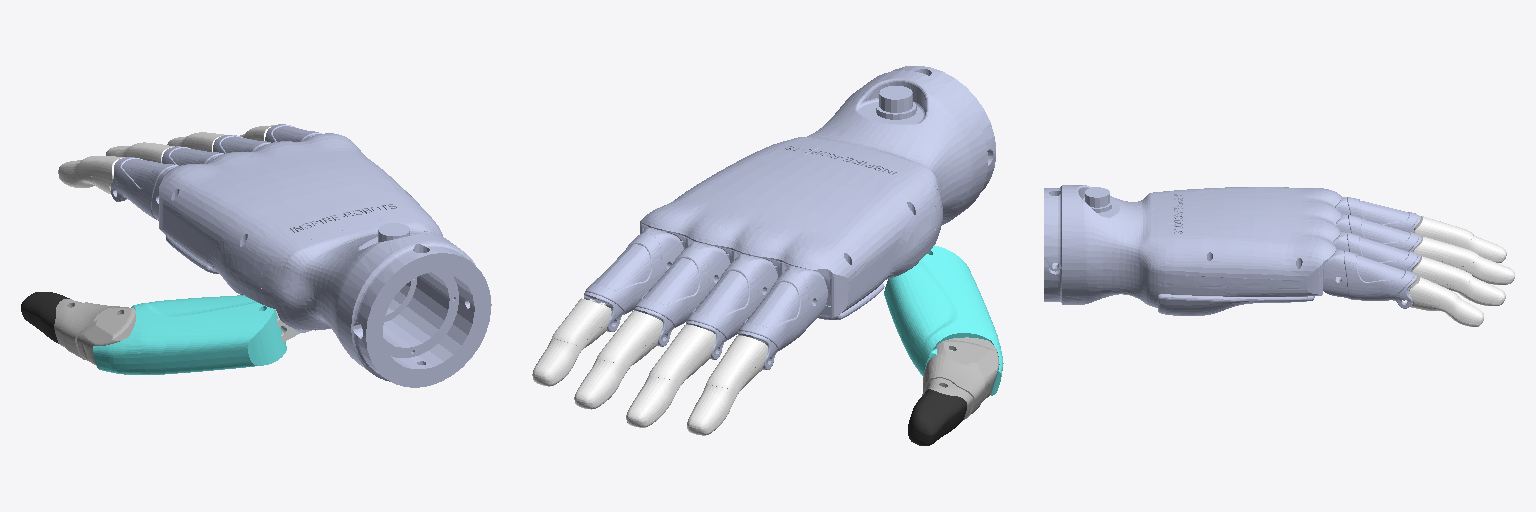
--- What the picture shows (computed from the rendered views, not written in the file) ---
The picture shows the robot from 3 angles, left to right: view 1: azimuth 30°, elevation 25°; view 2: azimuth 150°, elevation 25°; view 3: azimuth 270°, elevation 25°; orthographic projection.
Robot: ur5e_hand — 24 links, 23 joints (6 revolute, 12 continuous, 5 fixed); root link base_link; default pose: all joints at 0.
Links seen in each view (by area): view 1: hand_base, link12, link13, link21, link22, link14, link32, link31, link41, link51, link42; view 2: hand_base, link12, link21, link51, link41, link31, link13, link32, link42, link22, link52, link14; view 3: hand_base, link51, link32, link42, link52, link22, link41, link31, link21.
Boxes of the visible links, <box> form: hand_base: <box>159,133,491,387</box>; link12: <box>93,295,286,374</box>; link13: <box>54,299,135,374</box>; link21: <box>111,157,178,220</box>; link22: <box>58,156,126,199</box>; link14: <box>21,292,69,343</box>; link32: <box>106,142,174,162</box>; link31: <box>162,146,223,165</box>; link41: <box>213,135,270,153</box>; link51: <box>265,124,321,142</box>; link42: <box>167,132,223,151</box>; hand_base: <box>640,66,995,319</box>; link12: <box>884,245,1003,395</box>; link21: <box>738,266,827,369</box>; link51: <box>584,228,683,331</box>; link41: <box>634,242,730,346</box>; link31: <box>686,254,777,359</box>; link13: <box>922,337,998,419</box>; link32: <box>626,325,715,427</box>; link42: <box>574,311,662,409</box>; link22: <box>687,336,767,435</box>; link52: <box>532,298,611,386</box>; link14: <box>908,389,966,445</box>; hand_base: <box>1044,185,1340,315</box>; link51: <box>1323,249,1416,308</box>; link32: <box>1414,236,1514,284</box>; link42: <box>1412,256,1505,305</box>; link52: <box>1403,277,1483,326</box>; link22: <box>1413,216,1506,262</box>; link41: <box>1333,232,1420,271</box>; link31: <box>1336,214,1421,251</box>; link21: <box>1336,196,1420,232</box>.
Bounding box of the posed robot: 0.1281 × 0.2154 × 0.0684 m (x, y, z).
13 mesh visuals loaded from 20 distinct referenced files (13 binary STL); not drawn: 7 (reference not matched to a file when rendering).

robot.urdf — ur5e_hand:
<?xml version="1.0" ?>
<!-- =================================================================================== -->
<!-- |    This document was autogenerated by xacro from ur5e.xacro                     | -->
<!-- |    EDITING THIS FILE BY HAND IS NOT RECOMMENDED                                 | -->
<!-- =================================================================================== -->
<robot name="ur5e_hand">
  <!--
    Base UR robot series xacro macro.

    NOTE: this is NOT a URDF. It cannot directly be loaded by consumers
    expecting a flattened '.urdf' file. See the top-level '.xacro' for that
    (but note: that .xacro must still be processed by the xacro command).

    For use in '.launch' files: use one of the 'load_urX.launch' convenience
    launch files.

    This file models the base kinematic chain of a UR robot, which then gets
    parameterised by various configuration files to convert it into a UR3(e),
    UR5(e), UR10(e) or UR16e.

    NOTE: the default kinematic parameters (ie: link lengths, frame locations,
    offets, etc) do not correspond to any particular robot. They are defaults
    only. There WILL be non-zero offsets between the Forward Kinematics results
    in TF (ie: robot_state_publisher) and the values reported by the Teach
    Pendant.

    For accurate (and robot-specific) transforms, the 'kinematics_parameters_file'
    parameter MUST point to a .yaml file containing the appropriate values for
    the targetted robot.

    If using the UniversalRobots/Universal_Robots_ROS_Driver, follow the steps
    described in the readme of that repository to extract the kinematic
    calibration from the controller and generate the required .yaml file.

    Main author of the migration to yaml configs: Ludovic Delval.

    Contributors to previous versions (in no particular order):

     - Felix Messmer
     - Kelsey Hawkins
     - Wim Meeussen
     - Shaun Edwards
     - Nadia Hammoudeh Garcia
     - Dave Hershberger
     - G. vd. Hoorn
     - Philip Long
     - Dave Coleman
     - Miguel Prada
     - Mathias Luedtke
     - Marcel Schnirring
     - Felix von Drigalski
     - Felix Exner
     - Jimmy Da Silva
     - Ajit Krisshna N L
     - Muhammad Asif Rana
  -->
  <!--
    NOTE: the macro defined in this file is NOT part of the public API of this
          package. Users CANNOT rely on this file being available, or stored in
          this location. Nor can they rely on the existence of the macro.
  -->
  <transmission name="shoulder_pan_trans">
    <type>transmission_interface/SimpleTransmission</type>
    <joint name="shoulder_pan_joint">
      <hardwareInterface>hardware_interface/PositionJointInterface</hardwareInterface>
    </joint>
    <actuator name="shoulder_pan_motor">
      <mechanicalReduction>1</mechanicalReduction>
    </actuator>
  </transmission>
  <transmission name="shoulder_lift_trans">
    <type>transmission_interface/SimpleTransmission</type>
    <joint name="shoulder_lift_joint">
      <hardwareInterface>hardware_interface/PositionJointInterface</hardwareInterface>
    </joint>
    <actuator name="shoulder_lift_motor">
      <mechanicalReduction>1</mechanicalReduction>
    </actuator>
  </transmission>
  <transmission name="elbow_trans">
    <type>transmission_interface/SimpleTransmission</type>
    <joint name="elbow_joint">
      <hardwareInterface>hardware_interface/PositionJointInterface</hardwareInterface>
    </joint>
    <actuator name="elbow_motor">
      <mechanicalReduction>1</mechanicalReduction>
    </actuator>
  </transmission>
  <transmission name="wrist_1_trans">
    <type>transmission_interface/SimpleTransmission</type>
    <joint name="wrist_1_joint">
      <hardwareInterface>hardware_interface/PositionJointInterface</hardwareInterface>
    </joint>
    <actuator name="wrist_1_motor">
      <mechanicalReduction>1</mechanicalReduction>
    </actuator>
  </transmission>
  <transmission name="wrist_2_trans">
    <type>transmission_interface/SimpleTransmission</type>
    <joint name="wrist_2_joint">
      <hardwareInterface>hardware_interface/PositionJointInterface</hardwareInterface>
    </joint>
    <actuator name="wrist_2_motor">
      <mechanicalReduction>1</mechanicalReduction>
    </actuator>
  </transmission>
  <transmission name="wrist_3_trans">
    <type>transmission_interface/SimpleTransmission</type>
    <joint name="wrist_3_joint">
      <hardwareInterface>hardware_interface/PositionJointInterface</hardwareInterface>
    </joint>
    <actuator name="wrist_3_motor">
      <mechanicalReduction>1</mechanicalReduction>
    </actuator>
  </transmission>
  <!-- links: main serial chain -->
  <link name="base_link"/>
  <link name="base_link_inertia">
    <visual>
      <origin rpy="0 0 3.141592653589793" xyz="0 0 0"/>
      <geometry>
        <mesh filename="package://urdf_ros2_rviz2/meshes/ur5e/visual/base.dae"/>
      </geometry>
      <material name="LightGrey">
        <color rgba="0.7 0.7 0.7 1.0"/>
      </material>
    </visual>
    <collision>
      <origin rpy="0 0 3.141592653589793" xyz="0 0 0"/>
      <geometry>
        <mesh filename="package://urdf_ros2_rviz2/meshes/ur5e/collision/base.stl"/>
      </geometry>
    </collision>
    <inertial>
      <mass value="4.0"/>
      <origin rpy="0 0 0" xyz="0 0 0"/>
      <inertia ixx="0.00443333156" ixy="0.0" ixz="0.0" iyy="0.00443333156" iyz="0.0" izz="0.0072"/>
    </inertial>
  </link>
  <link name="shoulder_link">
    <visual>
      <origin rpy="0 0 3.141592653589793" xyz="0 0 0"/>
      <geometry>
        <mesh filename="package://urdf_ros2_rviz2/meshes/ur5e/visual/shoulder.dae"/>
      </geometry>
      <material name="LightGrey">
        <color rgba="0.7 0.7 0.7 1.0"/>
      </material>
    </visual>
    <collision>
      <origin rpy="0 0 3.141592653589793" xyz="0 0 0"/>
      <geometry>
        <mesh filename="package://urdf_ros2_rviz2/meshes/ur5e/collision/shoulder.stl"/>
      </geometry>
    </collision>
    <inertial>
      <mass value="3.7"/>
      <origin rpy="0 0 0" xyz="0 0 0"/>
      <inertia ixx="0.010267495893" ixy="0.0" ixz="0.0" iyy="0.010267495893" iyz="0.0" izz="0.00666"/>
    </inertial>
  </link>
  <link name="upper_arm_link">
    <visual>
      <origin rpy="1.5707963267948966 0 -1.5707963267948966" xyz="0 0 0.138"/>
      <geometry>
        <mesh filename="package://urdf_ros2_rviz2/meshes/ur5e/visual/upperarm.dae"/>
      </geometry>
      <material name="LightGrey">
        <color rgba="0.7 0.7 0.7 1.0"/>
      </material>
    </visual>
    <collision>
      <origin rpy="1.5707963267948966 0 -1.5707963267948966" xyz="0 0 0.138"/>
      <geometry>
        <mesh filename="package://urdf_ros2_rviz2/meshes/ur5e/collision/upperarm.stl"/>
      </geometry>
    </collision>
    <inertial>
      <mass value="8.393"/>
      <origin rpy="0 1.5707963267948966 0" xyz="-0.2125 0.0 0.138"/>
      <inertia ixx="0.1338857818623325" ixy="0.0" ixz="0.0" iyy="0.1338857818623325" iyz="0.0" izz="0.0151074"/>
    </inertial>
  </link>
  <link name="forearm_link">
    <visual>
      <origin rpy="1.5707963267948966 0 -1.5707963267948966" xyz="0 0 0.007"/>
      <geometry>
        <mesh filename="package://urdf_ros2_rviz2/meshes/ur5e/visual/forearm.dae"/>
      </geometry>
      <material name="LightGrey">
        <color rgba="0.7 0.7 0.7 1.0"/>
      </material>
    </visual>
    <collision>
      <origin rpy="1.5707963267948966 0 -1.5707963267948966" xyz="0 0 0.007"/>
      <geometry>
        <mesh filename="package://urdf_ros2_rviz2/meshes/ur5e/collision/forearm.stl"/>
      </geometry>
    </collision>
    <inertial>
      <mass value="2.275"/>
      <origin rpy="0 1.5707963267948966 0" xyz="-0.1961 0.0 0.007"/>
      <inertia ixx="0.031209355099586295" ixy="0.0" ixz="0.0" iyy="0.031209355099586295" iyz="0.0" izz="0.004095"/>
    </inertial>
  </link>
  <link name="wrist_1_link">
    <visual>
      <!-- TODO: Move this to a parameter -->
      <origin rpy="1.5707963267948966 0 0" xyz="0 0 -0.127"/>
      <geometry>
        <mesh filename="package://urdf_ros2_rviz2/meshes/ur5e/visual/wrist1.dae"/>
      </geometry>
      <material name="LightGrey">
        <color rgba="0.7 0.7 0.7 1.0"/>
      </material>
    </visual>
    <collision>
      <origin rpy="1.5707963267948966 0 0" xyz="0 0 -0.127"/>
      <geometry>
        <mesh filename="package://urdf_ros2_rviz2/meshes/ur5e/collision/wrist1.stl"/>
      </geometry>
    </collision>
    <inertial>
      <mass value="1.219"/>
      <origin rpy="0 0 0" xyz="0 0 0"/>
      <inertia ixx="0.0025598989760400002" ixy="0.0" ixz="0.0" iyy="0.0025598989760400002" iyz="0.0" izz="0.0021942"/>
    </inertial>
  </link>
  <link name="wrist_2_link">
    <visual>
      <origin rpy="0 0 0" xyz="0 0 -0.0997"/>
      <geometry>
        <mesh filename="package://urdf_ros2_rviz2/meshes/ur5e/visual/wrist2.dae"/>
      </geometry>
      <material name="LightGrey">
        <color rgba="0.7 0.7 0.7 1.0"/>
      </material>
    </visual>
    <collision>
      <origin rpy="0 0 0" xyz="0 0 -0.0997"/>
      <geometry>
        <mesh filename="package://urdf_ros2_rviz2/meshes/ur5e/collision/wrist2.stl"/>
      </geometry>
    </collision>
    <inertial>
      <mass value="1.219"/>
      <origin rpy="0 0 0" xyz="0 0 0"/>
      <inertia ixx="0.0025598989760400002" ixy="0.0" ixz="0.0" iyy="0.0025598989760400002" iyz="0.0" izz="0.0021942"/>
    </inertial>
  </link>
  <link name="wrist_3_link">
    <visual>
      <origin rpy="1.5707963267948966 0 0" xyz="0 0 -0.0989"/>
      <geometry>
        <mesh filename="package://urdf_ros2_rviz2/meshes/ur5e/visual/wrist3.dae"/>
      </geometry>
      <material name="LightGrey">
        <color rgba="0.7 0.7 0.7 1.0"/>
      </material>
    </visual>
    <collision>
      <origin rpy="1.5707963267948966 0 0" xyz="0 0 -0.0989"/>
      <geometry>
        <mesh filename="package://urdf_ros2_rviz2/meshes/ur5e/collision/wrist3.stl"/>
      </geometry>
    </collision>
    <inertial>
      <mass value="0.1879"/>
      <origin rpy="0 0 0" xyz="0.0 0.0 -0.0229"/>
      <inertia ixx="9.890410052167731e-05" ixy="0.0" ixz="0.0" iyy="9.890410052167731e-05" iyz="0.0" izz="0.0001321171875"/>
    </inertial>
  </link>
  <!-- joints: main serial chain -->
  <joint name="base_link-base_link_inertia" type="fixed">
    <parent link="base_link"/>
    <child link="base_link_inertia"/>
    <!-- 'base_link' is REP-103 aligned (so X+ forward), while the internal
           frames of the robot/controller have X+ pointing backwards.
           Use the joint between 'base_link' and 'base_link_inertia' (a dummy
           link/frame) to introduce the necessary rotation over Z (of pi rad).
      -->
    <origin rpy="0 0 3.141592653589793" xyz="0 0 0"/>
  </joint>
  <joint name="shoulder_pan_joint" type="revolute">
    <parent link="base_link_inertia"/>
    <child link="shoulder_link"/>
    <origin rpy="0 0 0" xyz="0 0 0.1625"/>
    <axis xyz="0 0 1"/>
    <limit effort="150.0" lower="-6.283185307179586" upper="6.283185307179586" velocity="3.141592653589793"/>
    <dynamics damping="0" friction="0"/>
  </joint>
  <joint name="shoulder_lift_joint" type="revolute">
    <parent link="shoulder_link"/>
    <child link="upper_arm_link"/>
    <origin rpy="1.570796327 0 0" xyz="0 0 0"/>
    <axis xyz="0 0 1"/>
    <limit effort="150.0" lower="-6.283185307179586" upper="6.283185307179586" velocity="3.141592653589793"/>
    <dynamics damping="0" friction="0"/>
  </joint>
  <joint name="elbow_joint" type="revolute">
    <parent link="upper_arm_link"/>
    <child link="forearm_link"/>
    <origin rpy="0 0 0" xyz="-0.425 0 0"/>
    <axis xyz="0 0 1"/>
    <limit effort="150.0" lower="-3.141592653589793" upper="3.141592653589793" velocity="3.141592653589793"/>
    <dynamics damping="0" friction="0"/>
  </joint>
  <joint name="wrist_1_joint" type="revolute">
    <parent link="forearm_link"/>
    <child link="wrist_1_link"/>
    <origin rpy="0 0 0" xyz="-0.3922 0 0.1333"/>
    <axis xyz="0 0 1"/>
    <limit effort="28.0" lower="-6.283185307179586" upper="6.283185307179586" velocity="3.141592653589793"/>
    <dynamics damping="0" friction="0"/>
  </joint>
  <joint name="wrist_2_joint" type="revolute">
    <parent link="wrist_1_link"/>
    <child link="wrist_2_link"/>
    <origin rpy="1.570796327 0 0" xyz="0 -0.0997 -2.044881182297852e-11"/>
    <axis xyz="0 0 1"/>
    <limit effort="28.0" lower="-6.283185307179586" upper="6.283185307179586" velocity="3.141592653589793"/>
    <dynamics damping="0" friction="0"/>
  </joint>
  <joint name="wrist_3_joint" type="revolute">
    <parent link="wrist_2_link"/>
    <child link="wrist_3_link"/>
    <origin rpy="1.570796326589793 3.141592653589793 3.141592653589793" xyz="0 0.0996 -2.042830148012698e-11"/>
    <axis xyz="0 0 1"/>
    <limit effort="28.0" lower="-6.283185307179586" upper="6.283185307179586" velocity="3.141592653589793"/>
    <dynamics damping="0" friction="0"/>
  </joint>
  <!-- ROS-Industrial 'base' frame: base_link to UR 'Base' Coordinates transform -->
  <link name="base"/>
  <joint name="base_link-base_fixed_joint" type="fixed">
    <!-- Note the rotation over Z of pi radians: as base_link is REP-103
           aligned (ie: has X+ forward, Y+ left and Z+ up), this is needed
           to correctly align 'base' with the 'Base' coordinate system of
           the UR controller.
      -->
    <origin rpy="0 0 3.141592653589793" xyz="0 0 0"/>
    <parent link="base_link"/>
    <child link="base"/>
  </joint>
  <!-- ROS-Industrial 'flange' frame: attachment point for EEF models -->
  <link name="flange"/>
  <joint name="wrist_3-flange" type="fixed">
    <parent link="wrist_3_link"/>
    <child link="flange"/>
    <origin rpy="0 -1.5707963267948966 -1.5707963267948966" xyz="0 0 0"/>
  </joint>
  <!-- ROS-Industrial 'tool0' frame: all-zeros tool frame -->
  <link name="tool0"/>
  <joint name="flange-tool0" type="fixed">
    <!-- default toolframe: X+ left, Y+ up, Z+ front -->
    <origin rpy="1.5707963267948966 0 1.5707963267948966" xyz="0 0 0"/>
    <parent link="flange"/>
    <child link="tool0"/>
  </joint>
  
  <!-- ################################## Inspire Hand ################################### -->
  <link
    name="hand_base">
    <inertial>
      <origin
        xyz="0.00970865152611656 0.0705988450579498 0.000784105165930839"
        rpy="0 0 0" />
      <mass
        value="0.173550260334555" />
      <inertia
        ixx="7.17717565088766E-05"
        ixy="-1.43504996986015E-06"
        ixz="5.192609142882E-07"
        iyy="6.91692014479769E-05"
        iyz="1.97036600601426E-07"
        izz="0.000115600539382861" />
    </inertial>
    <visual>
      <origin
        xyz="0 0 0"
        rpy="0 0 0" />
      <geometry>
        <mesh
          filename="package://urdf_ros2_rviz2/meshes/inspire_hand/hand_base.STL" />
      </geometry>
      <material
        name="">
        <color
          rgba="0.792156862745098 0.819607843137255 0.933333333333333 1" />
      </material>
    </visual>
    <collision>
      <origin
        xyz="0 0 0"
        rpy="0 0 0" />
      <geometry>
        <mesh
          filename="package://urdf_ros2_rviz2/meshes/inspire_hand/hand_base.STL" />
      </geometry>
    </collision>
  </link>
  <joint name="tool0-handbase" type="fixed">
    <!-- default toolframe: X+ left, Y+ up, Z+ front -->
    <origin rpy="0 0 0" xyz="-0.0120 0.00104 0"/>
    <parent link="tool0"/>
    <child link="hand_base"/>
  </joint>
  <link
    name="link11">
    <inertial>
      <origin
        xyz="0.00382805339098703 0.00577960892857374 -0.000547901928133124"
        rpy="0 0 0" />
      <mass
        value="0.00151775422039233" />
      <inertia
        ixx="3.60561774429321E-08"
        ixy="1.96011535062598E-09"
        ixz="-5.77144791818738E-09"
        iyy="5.61616123614896E-08"
        iyz="2.07478757573165E-10"
        izz="6.0741304242282E-08" />
    </inertial>
    <visual>
      <origin
        xyz="0 0 0"
        rpy="0 0 0" />
      <geometry>
        <mesh
          filename="package://urdf_ros2_rviz2/meshes/inspire_hand/link11.STL" />
      </geometry>
      <material
        name="">
        <color
          rgba="0.898039215686275 0.917647058823529 0.929411764705882 1" />
      </material>
    </visual>
    <collision>
      <origin
        xyz="0 0 0"
        rpy="0 0 0" />
      <geometry>
        <mesh
          filename="package://urdf_ros2_rviz2/meshes/inspire_hand/link11.STL" />
      </geometry>
    </collision>
  </link>
  <joint
    name="joint11"
    type="continuous">
    <origin
      xyz="0.0322767472474676 -0.0169600000000005 0.0548458162732176"
      rpy="1.5707963267949 0 -0.288639272953588" />
    <parent
      link="hand_base" />
    <child
      link="link11" />
    <axis
      xyz="0 1 0" />
  </joint>
  <link
    name="link12">
    <inertial>
      <origin
        xyz="1.50977037607913E-08 0.0255987710514695 0.00116706704181252"
        rpy="0 0 0" />
      <mass
        value="0.026111324628487" />
      <inertia
        ixx="7.93937776077452E-06"
        ixy="1.32047401861338E-12"
        ixz="-5.01826112913189E-12"
        iyy="2.41379640780813E-06"
        iyz="1.42449684340088E-07"
        izz="6.7218312567412E-06" />
    </inertial>
    <visual>
      <origin
        xyz="0 0 0"
        rpy="0 0 0" />
      <geometry>
        <mesh
          filename="package://urdf_ros2_rviz2/meshes/inspire_hand/link12.STL" />
      </geometry>
      <material
        name="">
        <color
          rgba="0.501960784313725 1 1 1" />
      </material>
    </visual>
    <collision>
      <origin
        xyz="0 0 0"
        rpy="0 0 0" />
      <geometry>
        <mesh
          filename="package://urdf_ros2_rviz2/meshes/inspire_hand/link12.STL" />
      </geometry>
    </collision>
  </link>
  <joint
    name="joint12"
    type="continuous">
    <origin
      xyz="0.0115000000000001 0.00500418372678198 0"
      rpy="-2.31274359480081 1.57079631189374 -3.07917384359384" />
    <parent
      link="link11" />
    <child
      link="link12" />
    <axis
      xyz="1 0 0" />
  </joint>
  <link
    name="link13">
    <inertial>
      <origin
        xyz="9.99747897199588E-05 0.00963738023376423 0.00565191655288963"
        rpy="0 0 0" />
      <mass
        value="0.00762447324753615" />
      <inertia
        ixx="8.63286564780538E-07"
        ixy="6.59072049627319E-12"
        ixz="2.63773932657713E-12"
        iyy="3.71345379047481E-07"
        iyz="9.49599809652253E-08"
        izz="7.9079705811006E-07" />
    </inertial>
    <visual>
      <origin
        xyz="0 0 0"
        rpy="0 0 0" />
      <geometry>
        <mesh
          filename="package://urdf_ros2_rviz2/meshes/inspire_hand/link13.STL" />
      </geometry>
      <material
        name="">
        <color
          rgba="0.752941176470588 0.752941176470588 0.752941176470588 1" />
      </material>
    </visual>
    <collision>
      <origin
        xyz="0 0 0"
        rpy="0 0 0" />
      <geometry>
        <mesh
          filename="package://urdf_ros2_rviz2/meshes/inspire_hand/link13.STL" />
      </geometry>
    </collision>
  </link>
  <joint
    name="joint13"
    type="continuous">
    <origin
      xyz="0 0.0558521482027668 -0.00406663757127738"
      rpy="-0.446752277486987 0 0" />
    <parent
      link="link12" />
    <child
      link="link13" />
    <axis
      xyz="1 0 0" />
  </joint>
  <link
    name="link14">
    <inertial>
      <origin
        xyz="9.99626066127725E-05 0.0108803863953779 0.000509489407093187"
        rpy="0 0 0" />
      <mass
        value="0.00320261765173743" />
      <inertia
        ixx="1.86512589413249E-07"
        ixy="2.15508629292946E-13"
        ixz="1.43439958528537E-12"
        iyy="8.14185568105777E-08"
        iyz="2.18237916752975E-08"
        izz="1.75098809546659E-07" />
    </inertial>
    <visual>
      <origin
        xyz="0 0 0"
        rpy="0 0 0" />
      <geometry>
        <mesh
          filename="package://urdf_ros2_rviz2/meshes/inspire_hand/link14.STL" />
      </geometry>
      <material
        name="">
        <color
          rgba="0.250980392156863 0.250980392156863 0.250980392156863 1" />
      </material>
    </visual>
    <collision>
      <origin
        xyz="0 0 0"
        rpy="0 0 0" />
      <geometry>
        <mesh
          filename="package://urdf_ros2_rviz2/meshes/inspire_hand/link14.STL" />
      </geometry>
    </collision>
  </link>
  <joint
    name="joint14"
    type="continuous">
    <origin
      xyz="0 0.0225575937348489 0.00207173284917741"
      rpy="-0.00395784658885421 0 0" />
    <parent
      link="link13" />
    <child
      link="link14" />
    <axis
      xyz="1 0 0" />
  </joint>
  <link
    name="link21">
    <inertial>
      <origin
        xyz="-0.00804542362138621 0.013291865364697 -0.0019853737953695"
        rpy="0 0 0" />
      <mass
        value="0.00745608235613934" />
      <inertia
        ixx="9.12559185440702E-07"
        ixy="4.80784842600348E-12"
        ixz="-1.08021863569965E-12"
        iyy="3.09339407486879E-07"
        iyz="1.11694137288995E-07"
        izz="8.20290055073171E-07" />
    </inertial>
    <visual>
      <origin
        xyz="0 0 0"
        rpy="0 0 0" />
      <geometry>
        <mesh
          filename="package://urdf_ros2_rviz2/meshes/inspire_hand/link21.STL" />
      </geometry>
      <material
        name="">
        <color
          rgba="0.792156862745098 0.819607843137255 0.933333333333333 1" />
      </material>
    </visual>
    <collision>
      <origin
        xyz="0 0 0"
        rpy="0 0 0" />
      <geometry>
        <mesh
          filename="package://urdf_ros2_rviz2/meshes/inspire_hand/link21.STL" />
      </geometry>
    </collision>
  </link>
  <joint
    name="joint21"
    type="continuous">
    <origin
      xyz="0.0299576123448112 0.000285333323389516 0.13702083444661"
      rpy="1.59314269311108 -0.0349065850398974 3.14159265358979" />
    <parent
      link="hand_base" />
    <child
      link="link21" />
    <axis
      xyz="1 0 0" />
  </joint>
  <link
    name="link22">
    <inertial>
      <origin
        xyz="0.00653899029035891 -0.0737774063668258 0.00428649317474651"
        rpy="0 0 0" />
      <mass
        value="0.327056170009771" />
      <inertia
        ixx="0.000750614324613926"
        ixy="-5.26395114769731E-05"
        ixz="-6.46597718246633E-05"
        iyy="0.000431269163975274"
        iyz="-1.16542118542719E-05"
        izz="0.00107376731850363" />
    </inertial>
    <visual>
      <origin
        xyz="0 0 0"
        rpy="0 0 0" />
      <geometry>
        <mesh
          filename="package://urdf_ros2_rviz2/meshes/inspire_hand/link22.STL" />
      </geometry>
      <material
        name="">
        <color
          rgba="1 1 1 1" />
      </material>
    </visual>
    <collision>
      <origin
        xyz="0 0 0"
        rpy="0 0 0" />
      <geometry>
        <mesh
          filename="package://urdf_ros2_rviz2/meshes/inspire_hand/link22.STL" />
      </geometry>
    </collision>
  </link>
  <joint
    name="joint22"
    type="continuous">
    <origin
      xyz="-0.00165893264903088 0.0304454029267132 -0.0102747248187916"
      rpy="-0.0223463663161864 0 0" />
    <parent
      link="link21" />
    <child
      link="link22" />
    <axis
      xyz="1 0 0" />
  </joint>
  <link
    name="link31">
    <inertial>
      <origin
        xyz="-0.00806506880315926 0.0132918659558879 -0.00198536994646948"
        rpy="0 0 0" />
      <mass
        value="0.00745608587594113" />
      <inertia
        ixx="9.1255957361487E-07"
        ixy="4.53249563804627E-12"
        ixz="-1.05966264012031E-12"
        iyy="3.09339669069082E-07"
        iyz="1.11694113602001E-07"
        izz="8.20290248240789E-07" />
    </inertial>
    <visual>
      <origin
        xyz="0 0 0"
        rpy="0 0 0" />
      <geometry>
        <mesh
          filename="package://urdf_ros2_rviz2/meshes/inspire_hand/link31.STL" />
      </geometry>
      <material
        name="">
        <color
          rgba="0.792156862745098 0.819607843137255 0.933333333333333 1" />
      </material>
    </visual>
    <collision>
      <origin
        xyz="0 0 0"
        rpy="0 0 0" />
      <geometry>
        <mesh
          filename="package://urdf_ros2_rviz2/meshes/inspire_hand/link31.STL" />
      </geometry>
    </collision>
  </link>
  <joint
    name="joint31"
    type="continuous">
    <origin
      xyz="0.0106116274375181 0.000285333314556461 0.137099999999954"
      rpy="1.5707963267949 0 -3.14159265358979" />
    <parent
      link="hand_base" />
    <child
      link="link31" />
    <axis
      xyz="1 0 0" />
  </joint>
  <link
    name="link32">
    <inertial>
      <origin
        xyz="-0.00641053067059029 0.0202190855075054 -0.00145169010828637"
        rpy="0 0 0" />
      <mass
        value="0.00489153427503173" />
      <inertia
        ixx="9.68682059056418E-07"
        ixy="1.09443694412333E-12"
        ixz="-6.36073387220063E-14"
        iyy="1.62566297715908E-07"
        iyz="2.44640309316036E-07"
        izz="8.81927844151285E-07" />
    </inertial>
    <visual>
      <origin
        xyz="0 0 0"
        rpy="0 0 0" />
      <geometry>
        <mesh
          filename="package://urdf_ros2_rviz2/meshes/inspire_hand/link32.STL" />
      </geometry>
      <material
        name="">
        <color
          rgba="1 1 1 1" />
      </material>
    </visual>
    <collision>
      <origin
        xyz="0 0 0"
        rpy="0 0 0" />
      <geometry>
        <mesh
          filename="package://urdf_ros2_rviz2/meshes/inspire_hand/link32.STL" />
      </geometry>
    </collision>
  </link>
  <joint
    name="joint32"
    type="continuous">
    <origin
      xyz="-0.00165461043343247 0.0304454029267133 -0.0102747248187966"
      rpy="0 0 0" />
    <parent
      link="link31" />
    <child
      link="link32" />
    <axis
      xyz="1 0 0" />
  </joint>
  <link
    name="link41">
    <inertial>
      <origin
        xyz="0.00118873477276321 0.0128446133245874 -0.00198529625014892"
        rpy="0 0 0" />
      <mass
        value="0.00745613632969076" />
      <inertia
        ixx="9.12574550570269E-07"
        ixy="1.36064731075754E-12"
        ixz="1.32818760534112E-12"
        iyy="3.09346119751473E-07"
        iyz="1.11701483234163E-07"
        izz="8.20300458873423E-07" />
    </inertial>
    <visual>
      <origin
        xyz="0 0 0"
        rpy="0 0 0" />
      <geometry>
        <mesh
          filename="package://urdf_ros2_rviz2/meshes/inspire_hand/link41.STL" />
      </geometry>
      <material
        name="">
        <color
          rgba="0.792156862745098 0.819607843137255 0.933333333333333 1" />
      </material>
    </visual>
    <collision>
      <origin
        xyz="0 0 0"
        rpy="0 0 0" />
      <geometry>
        <mesh
          filename="package://urdf_ros2_rviz2/meshes/inspire_hand/link41.STL" />
      </geometry>
    </collision>
  </link>
  <joint
    name="joint41"
    type="continuous">
    <origin
      xyz="0.000611627437518102 0.000285333314556461 0.137099999999954"
      rpy="1.5707963267949 0.0523598775598169 -3.14159265358979" />
    <parent
      link="hand_base" />
    <child
      link="link41" />
    <axis
      xyz="1 0 0" />
  </joint>
  <link
    name="link42">
    <inertial>
      <origin
        xyz="-0.017437118471705 -0.0744526395660676 0.00496934597564839"
        rpy="0 0 0" />
      <mass
        value="0.327056170009771" />
      <inertia
        ixx="0.00075732929457779"
        ixy="-2.41129464214714E-05"
        ixz="-6.33979903812541E-05"
        iyy="0.000424554194011409"
        iyz="-1.72453344989365E-05"
        izz="0.00107376731850363" />
    </inertial>
    <visual>
      <origin
        xyz="0 0 0"
        rpy="0 0 0" />
      <geometry>
        <mesh
          filename="package://urdf_ros2_rviz2/meshes/inspire_hand/link42.STL" />
      </geometry>
      <material
        name="">
        <color
          rgba="1 1 1 1" />
      </material>
    </visual>
    <collision>
      <origin
        xyz="0 0 0"
        rpy="0 0 0" />
      <geometry>
        <mesh
          filename="package://urdf_ros2_rviz2/meshes/inspire_hand/link42.STL" />
      </geometry>
    </collision>
  </link>
  <joint
    name="joint42"
    type="continuous">
    <origin
      xyz="-0.00324573212270961 0.0303170829408761 -0.0102747248187966"
      rpy="0 0 0" />
    <parent
      link="link41" />
    <child
      link="link42" />
    <axis
      xyz="1 0 0" />
  </joint>
  <link
    name="link51">
    <inertial>
      <origin
        xyz="0.0126408243283064 0.0134448829399193 -0.00198536843277502"
        rpy="0 0 0" />
      <mass
        value="0.00745608583868413" />
      <inertia
        ixx="9.12559541090105E-07"
        ixy="4.41072297096919E-12"
        ixz="-1.05017369766054E-12"
        iyy="3.09339713949482E-07"
        iyz="1.11694111395046E-07"
        izz="8.20290215792697E-07" />
    </inertial>
    <visual>
      <origin
        xyz="0 0 0"
        rpy="0 0 0" />
      <geometry>
        <mesh
          filename="package://urdf_ros2_rviz2/meshes/inspire_hand/link51.STL" />
      </geometry>
      <material
        name="">
        <color
          rgba="0.792156862745098 0.819607843137255 0.933333333333333 1" />
      </material>
    </visual>
    <collision>
      <origin
        xyz="0 0 0"
        rpy="0 0 0" />
      <geometry>
        <mesh
          filename="package://urdf_ros2_rviz2/meshes/inspire_hand/link51.STL" />
      </geometry>
    </collision>
  </link>
  <joint
    name="joint51"
    type="continuous">
    <origin
      xyz="-0.00714034824967083 0.00028533332339533 0.136245960949983"
      rpy="1.5707963267949 0.104719755119632 -3.14159265358979" />
    <parent
      link="hand_base" />
    <child
      link="link51" />
    <axis
      xyz="1 0 0" />
  </joint>
  <link
    name="link52">
    <inertial>
      <origin
        xyz="0.0119930121559627 0.0157838992864161 -0.00173198078963767"
        rpy="0 0 0" />
      <mass
        value="0.00357999019140534" />
      <inertia
        ixx="4.28371286173127E-07"
        ixy="5.77970409177799E-10"
        ixz="-3.78833497762108E-10"
        iyy="1.16880434645465E-07"
        iyz="1.30112738456579E-07"
        izz="3.67063892575511E-07" />
    </inertial>
    <visual>
      <origin
        xyz="0 0 0"
        rpy="0 0 0" />
      <geometry>
        <mesh
          filename="package://urdf_ros2_rviz2/meshes/inspire_hand/link52.STL" />
      </geometry>
      <material
        name="">
        <color
          rgba="1 1 1 1" />
      </material>
    </visual>
    <collision>
      <origin
        xyz="0 0 0"
        rpy="0 0 0" />
      <geometry>
        <mesh
          filename="package://urdf_ros2_rviz2/meshes/inspire_hand/link52.STL" />
      </geometry>
    </collision>
  </link>
  <joint
    name="joint52"
    type="continuous">
    <origin
      xyz="0.000617527757212459 0.0305195478119759 -0.0102747248187915"
      rpy="0 0 0" />
    <parent
      link="link51" />
    <child
      link="link52" />
    <axis
      xyz="1 0 0" />
  </joint>
</robot>
